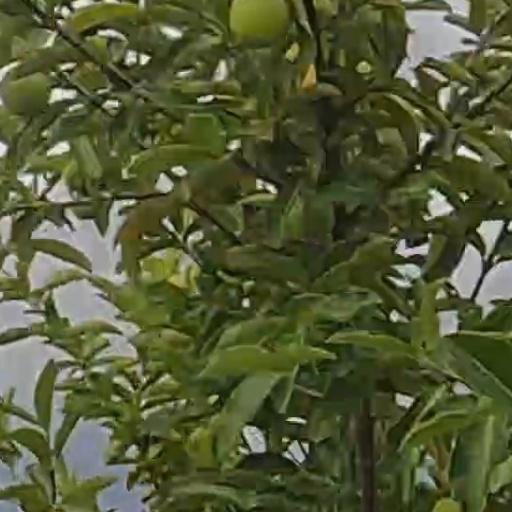acerola: (228, 1, 291, 46), (5, 74, 51, 111)
